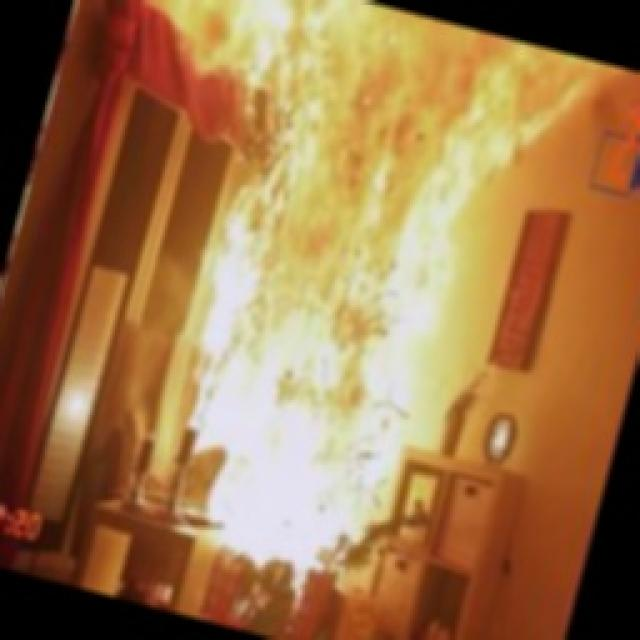fire: (71, 0, 614, 605)
